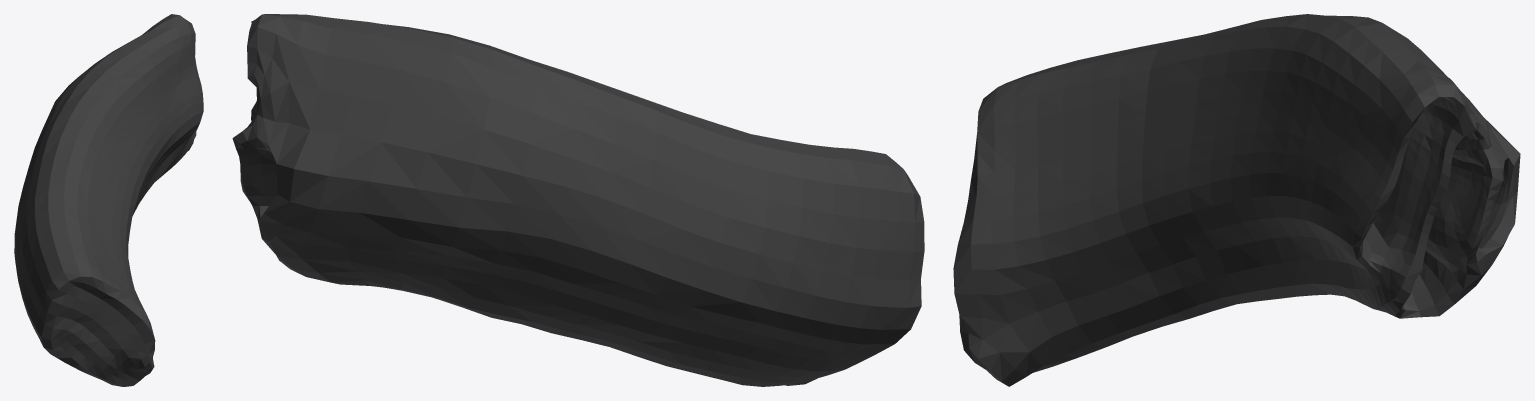
File: chin_skull_L_023.glb
The picture shows the model from 3 angles, left to right: view 1: azimuth 30°, elevation 25°; view 2: azimuth 150°, elevation 25°; view 3: azimuth 270°, elevation 25°; orthographic projection. The views are drawn at different scales.
Visible parts, largest first — view 1: chin_skull_L_023; view 2: chin_skull_L_023; view 3: chin_skull_L_023.
Boxes of the visible parts, x1,y1,x2,y2 form: chin_skull_L_023: (14,14,203,386); chin_skull_L_023: (232,14,924,386); chin_skull_L_023: (953,14,1520,386).
Bounding box in the file's own units: 0.2829 × 0.2562 × 0.2927.
Materials: 1 (1 with a texture image).
